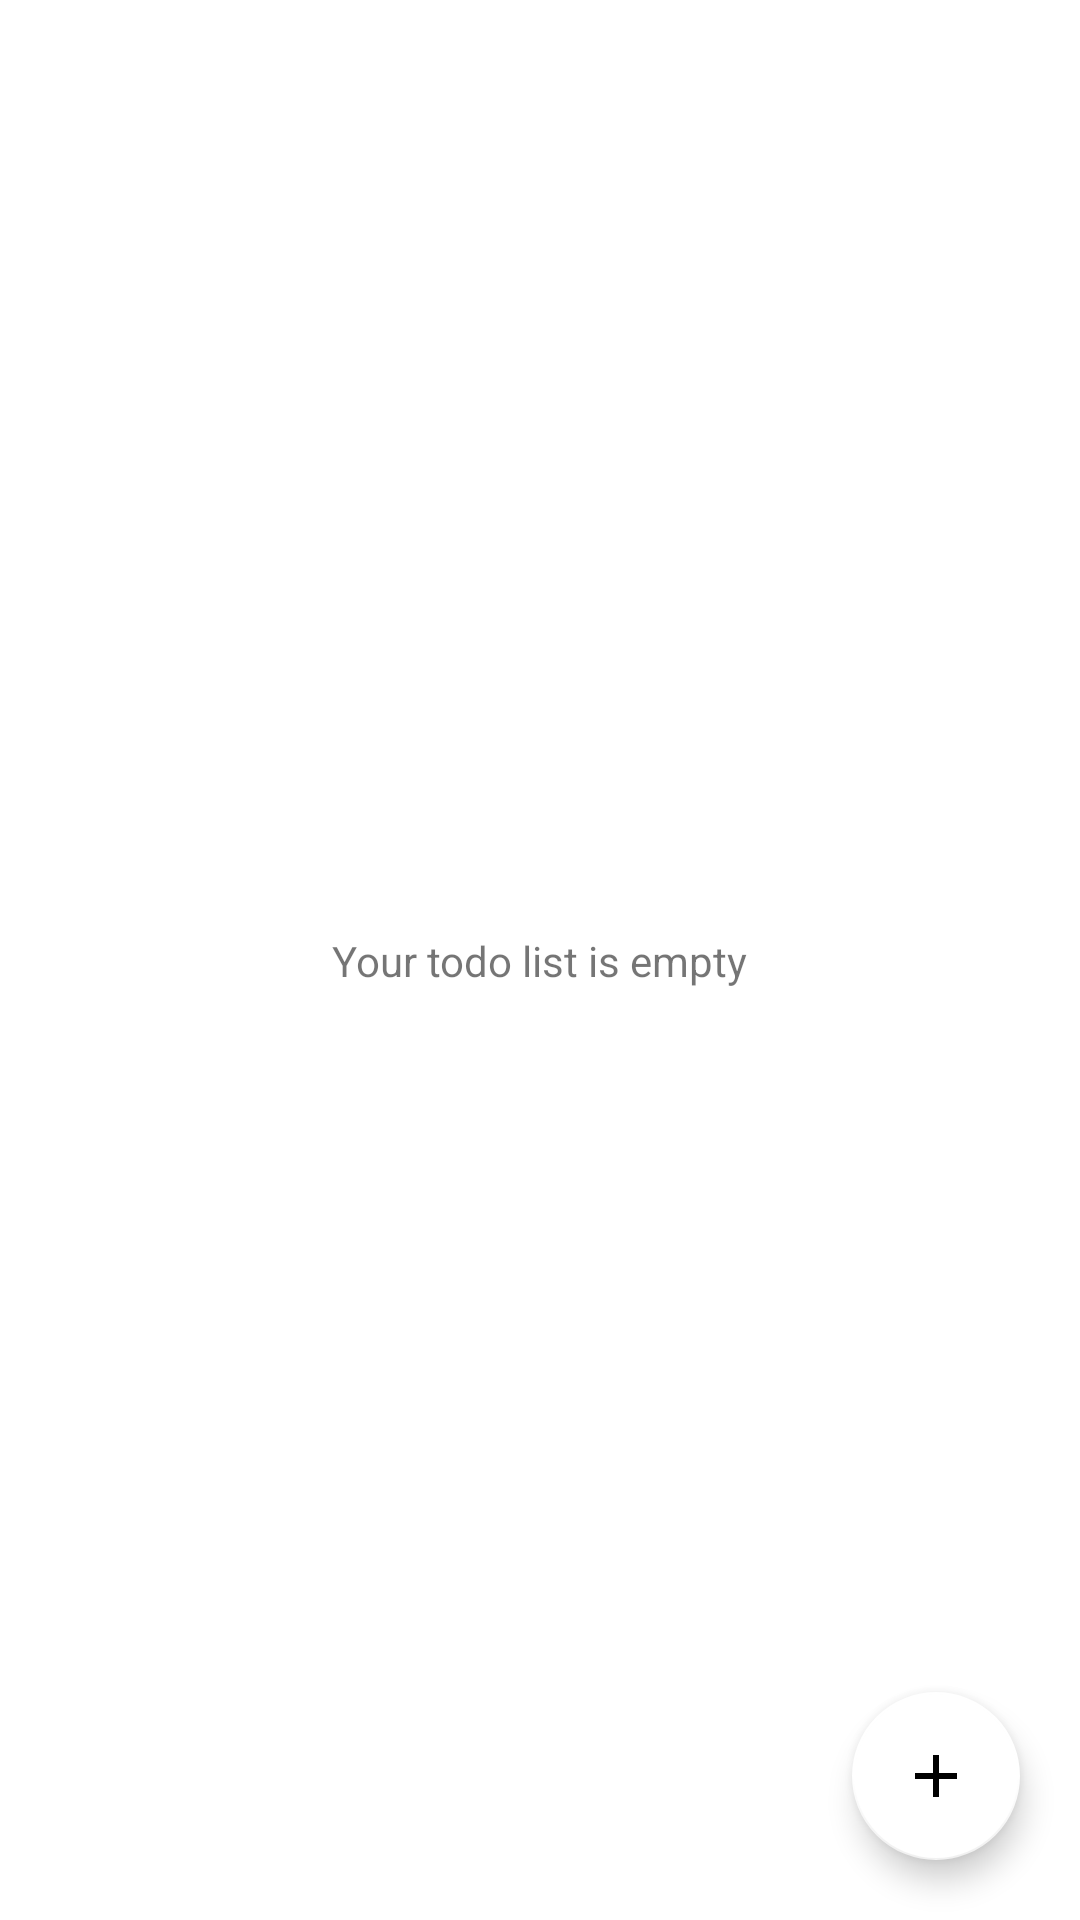

Icons on this 1080w x 1920h Android screen, each with the point to tap as (x,y):
Add todo: (938,1807)
